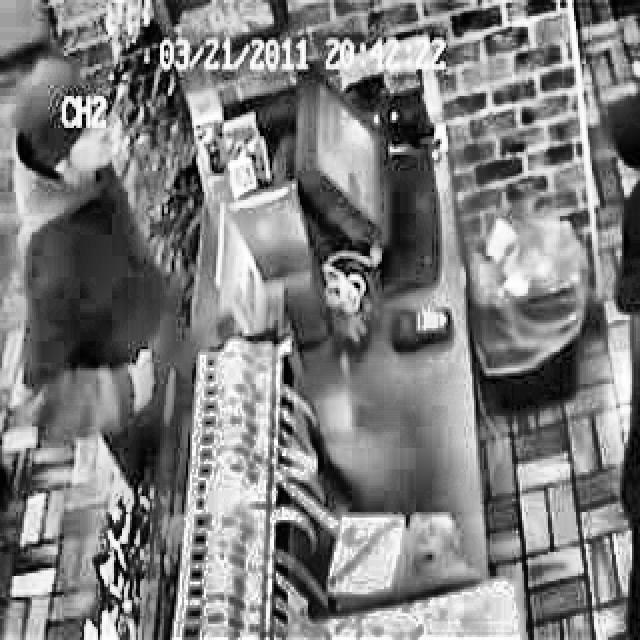robbery: (14, 52, 202, 509)
